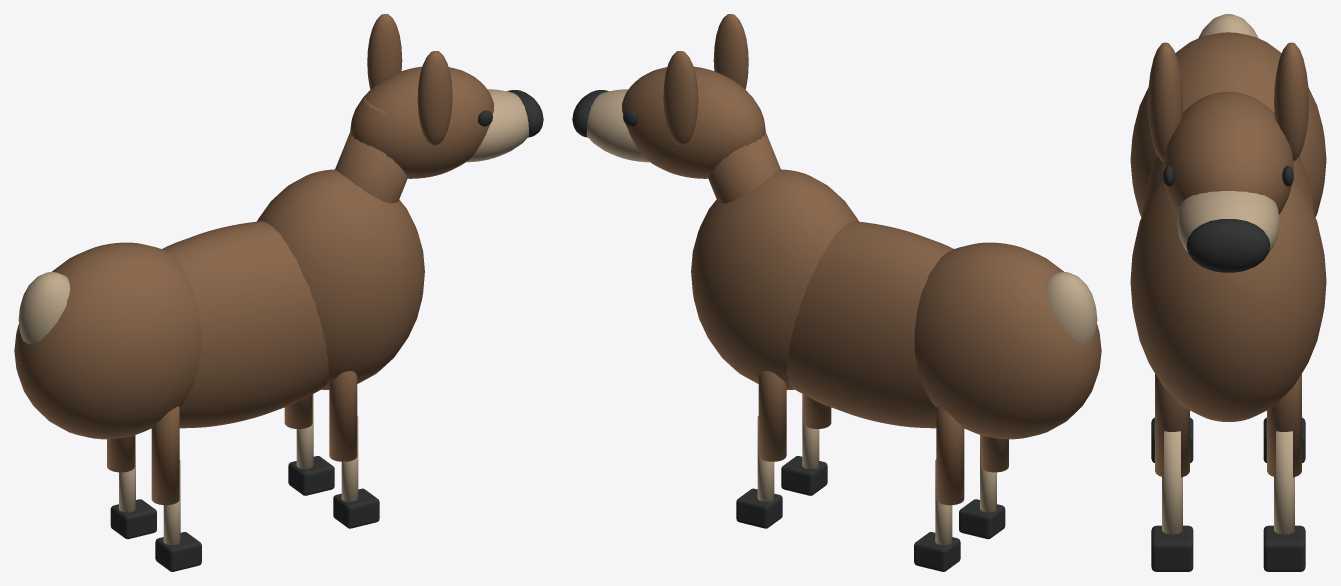
The model's file is deer_aaa.glb.
3 renders of one model, left to right at view 1: azimuth 30°, elevation 25°; view 2: azimuth 150°, elevation 25°; view 3: azimuth 270°, elevation 25°, orthographic. The views are drawn at different scales.
Visible parts, largest first — view 1: DeerRump, DeerBody, DeerChest, DeerHead, DeerNeck, Deer_Ear_-1, DeerTail, Deer_LegUpper_0, Deer_LegUpper_2, DeerMuzzle, Deer_Ear_1, DeerHoof (+10 smaller); view 2: DeerRump, DeerBody, DeerChest, DeerHead, DeerNeck, Deer_Ear_1, DeerTail, Deer_LegUpper_1, Deer_LegUpper_3, DeerMuzzle, Deer_Ear_-1, DeerHoof.001 (+10 smaller); view 3: DeerChest, DeerHead, DeerRump, DeerNose, DeerMuzzle, Deer_Ear_-1, Deer_Ear_1, Deer_LegUpper_2, Deer_LegUpper_3, Deer_LegLower_2, Deer_LegLower_3, DeerHoof.002 (+5 smaller).
Boxes of the visible parts, bbox=[...] form: DeerRump: bbox=[14, 242, 201, 439]; DeerBody: bbox=[162, 221, 329, 428]; DeerChest: bbox=[257, 169, 424, 389]; DeerHead: bbox=[350, 66, 493, 178]; DeerNeck: bbox=[335, 97, 407, 203]; Deer_Ear_-1: bbox=[417, 51, 452, 145]; DeerTail: bbox=[18, 272, 70, 343]; Deer_LegUpper_0: bbox=[151, 406, 179, 505]; Deer_LegUpper_2: bbox=[329, 371, 357, 461]; DeerMuzzle: bbox=[466, 89, 529, 162]; Deer_Ear_1: bbox=[367, 14, 402, 89]; DeerHoof: bbox=[155, 532, 201, 571]; DeerRump: bbox=[914, 242, 1101, 439]; DeerBody: bbox=[786, 221, 953, 428]; DeerChest: bbox=[691, 169, 858, 389]; DeerHead: bbox=[622, 66, 765, 178]; DeerNeck: bbox=[708, 97, 780, 203]; Deer_Ear_1: bbox=[663, 51, 698, 145]; DeerTail: bbox=[1045, 272, 1097, 343]; Deer_LegUpper_1: bbox=[936, 406, 964, 505]; Deer_LegUpper_3: bbox=[758, 371, 786, 461]; DeerMuzzle: bbox=[586, 89, 649, 162]; Deer_Ear_-1: bbox=[713, 14, 748, 89]; DeerHoof.001: bbox=[914, 532, 960, 571]; DeerChest: bbox=[1130, 177, 1326, 421]; DeerHead: bbox=[1163, 91, 1293, 214]; DeerRump: bbox=[1130, 32, 1326, 216]; DeerNose: bbox=[1186, 219, 1270, 272]; DeerMuzzle: bbox=[1177, 191, 1279, 251]; Deer_Ear_-1: bbox=[1148, 42, 1182, 161]; Deer_Ear_1: bbox=[1274, 42, 1308, 161]; Deer_LegUpper_2: bbox=[1155, 374, 1189, 477]; Deer_LegUpper_3: bbox=[1267, 374, 1301, 477]; Deer_LegLower_2: bbox=[1162, 431, 1182, 534]; Deer_LegLower_3: bbox=[1274, 431, 1294, 534]; DeerHoof.002: bbox=[1151, 525, 1193, 571].
Size of the model in its own units: 3.18 by 2.68 by 0.84.
